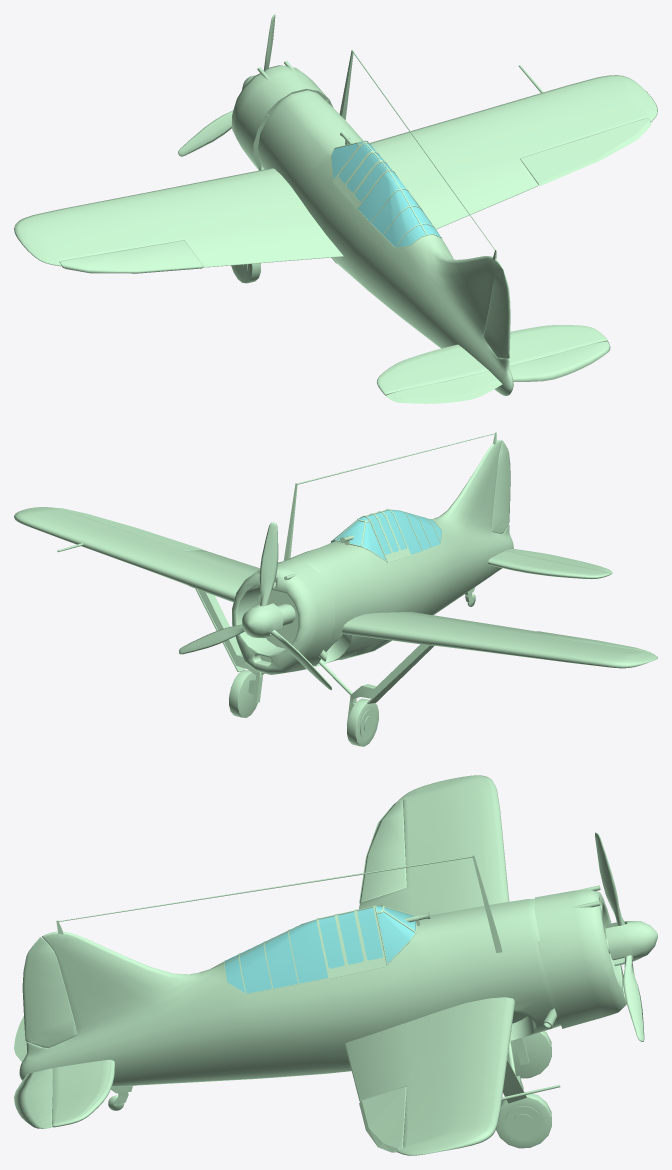
Rendered from F2A_Buffalo_LaunchLand_anim.fbx.
3 renders of one model, top to bottom at view 1: azimuth 30°, elevation 25°; view 2: azimuth 150°, elevation 25°; view 3: azimuth 270°, elevation 25°, orthographic. The views are drawn at different scales.
Parts seen in each view (by area): view 1: Shape002, Wirnik; view 2: Shape002, Wirnik; view 3: Shape002, Wirnik.
Boxes of the visible parts, x1,y1,x2,y2 form: Shape002: (14, 50, 657, 403); Wirnik: (178, 14, 275, 156); Shape002: (14, 432, 657, 746); Wirnik: (179, 522, 331, 689); Shape002: (14, 775, 626, 1155); Wirnik: (595, 832, 657, 1041).
Bounding box in the file's own units: 1055 × 370 × 776.
